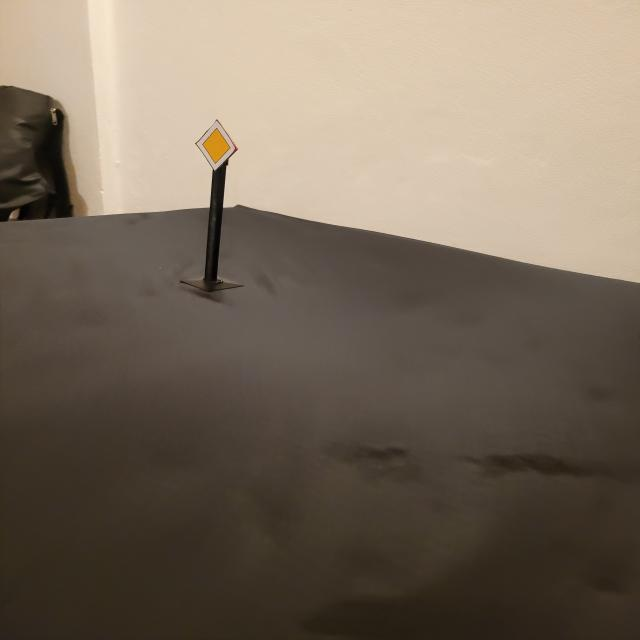priority: (193, 119, 238, 172)
